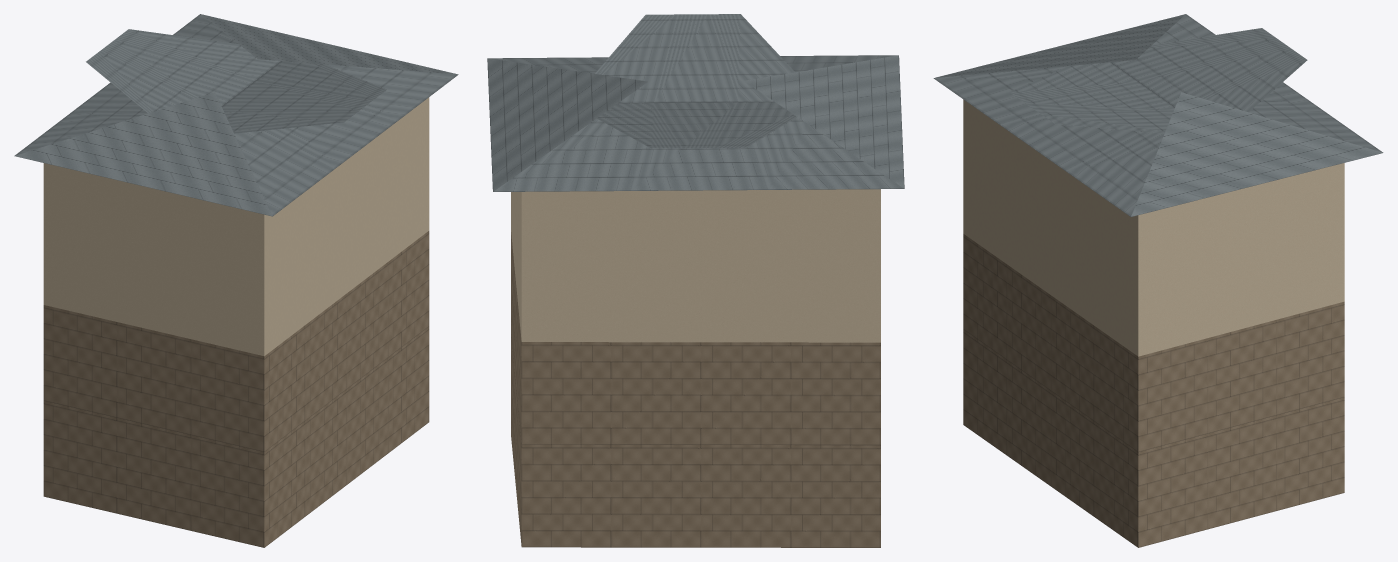
Rendered from bld_c1_21_500.gltf.
3 views of the same model, side by side, from view 1: azimuth 30°, elevation 25°; view 2: azimuth 150°, elevation 25°; view 3: azimuth 270°, elevation 25° (orthographic). The views are drawn at different scales.
Visible parts, largest first — view 1: bld_c1_21_500; view 2: bld_c1_21_500; view 3: bld_c1_21_500.
Part boxes in pixels (left/top/right/bottom): bld_c1_21_500: left=14, top=14, right=458, bottom=547; bld_c1_21_500: left=487, top=14, right=904, bottom=547; bld_c1_21_500: left=933, top=14, right=1383, bottom=547.
Size of the model in its own units: 11.04 by 9.7 by 10.34.
3 materials, 3 textured.
